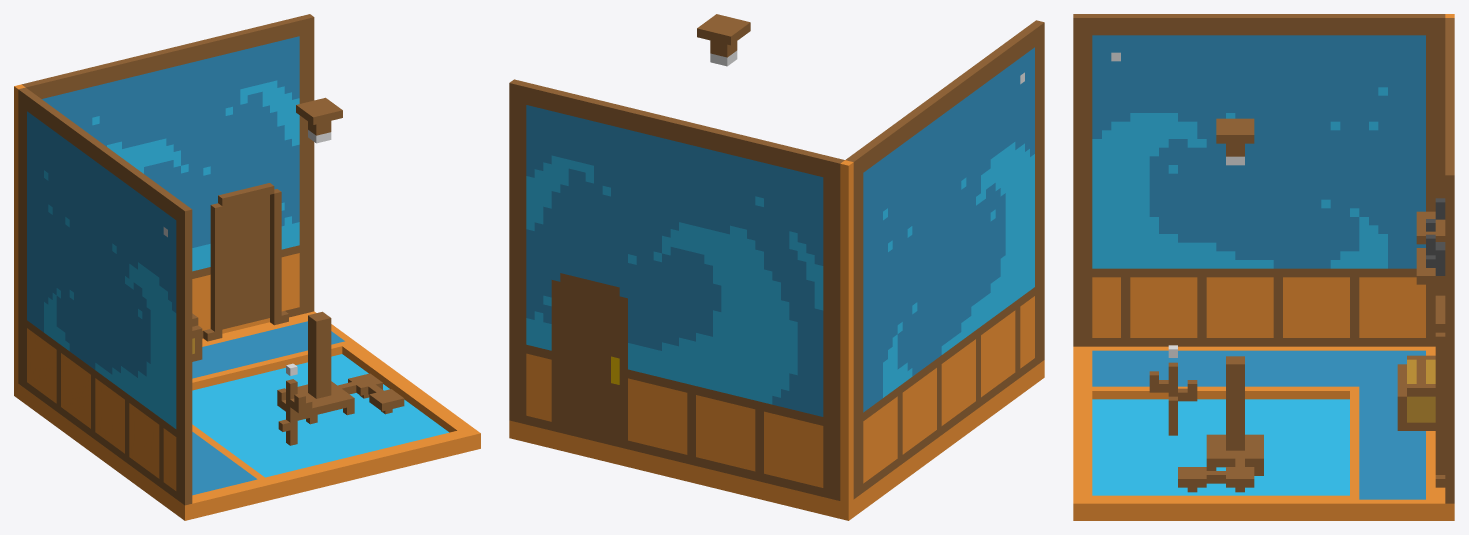
Rendered from room.glb.
3 renders of one model, left to right at view 1: azimuth 30°, elevation 25°; view 2: azimuth 150°, elevation 25°; view 3: azimuth 270°, elevation 25°, orthographic. The views are drawn at different scales.
Visible parts, largest first — view 1: room1; view 2: room1; view 3: room1.
Boxes of the visible parts, x1,y1,x2,y2 form: room1: [14, 14, 480, 520]; room1: [509, 14, 1044, 520]; room1: [1073, 14, 1454, 520].
Bounding box in the file's own units: 4 × 4 × 4.
1 material, 1 textured.
